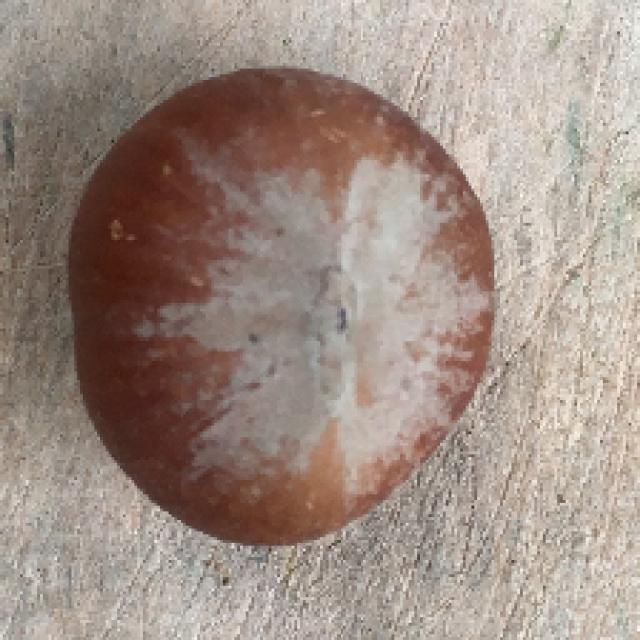qualityHazelnut: (67, 64, 498, 549)
